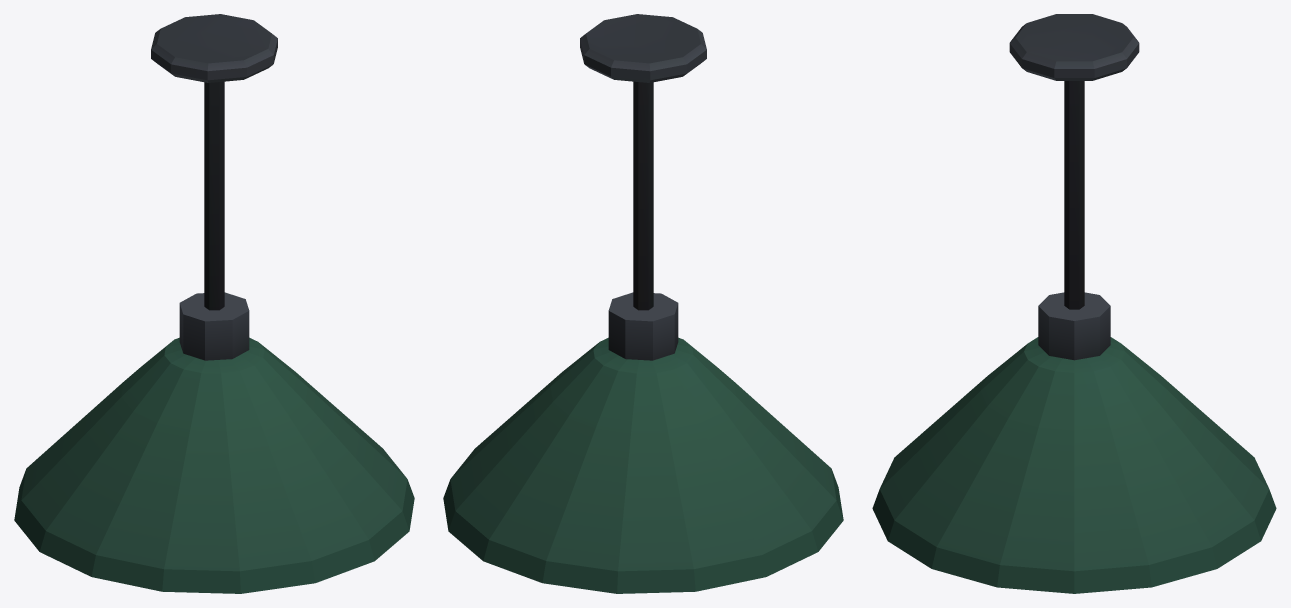
File: lamp_ceiling.glb
3 renders of one model, left to right at view 1: azimuth 30°, elevation 25°; view 2: azimuth 150°, elevation 25°; view 3: azimuth 270°, elevation 25°, orthographic.
Parts seen in each view (by area): view 1: Body; view 2: Body; view 3: Body.
Part boxes in pixels (x1,y1,x2,y2): Body: [14, 14, 414, 593]; Body: [443, 14, 843, 593]; Body: [872, 14, 1276, 593].
Bounding box in the file's own units: 0.56 × 0.72 × 0.56.
